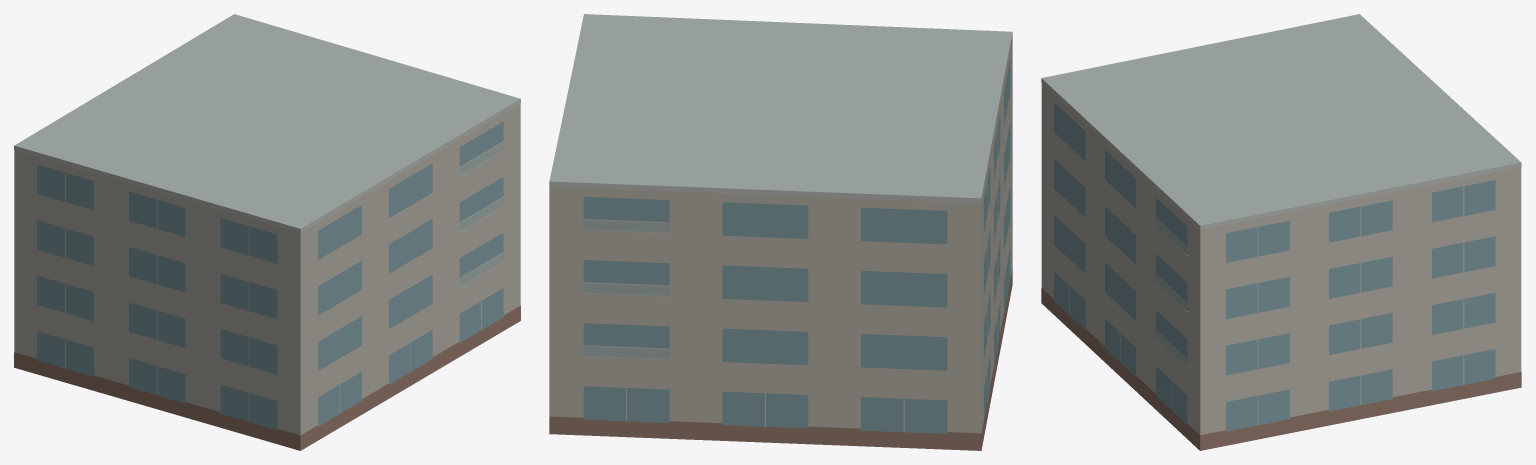
The model's file is survey-upis-32826151.glb.
The picture shows the model from 3 angles, left to right: view 1: azimuth 30°, elevation 25°; view 2: azimuth 150°, elevation 25°; view 3: azimuth 270°, elevation 25°; orthographic projection. The views are drawn at different scales.
Visible parts, largest first — view 1: survey-upis-32826151.tmp; view 2: survey-upis-32826151.tmp; view 3: survey-upis-32826151.tmp.
Part boxes in pixels (box(x1,y1,x2,y2)): survey-upis-32826151.tmp: box(14, 14, 520, 450); survey-upis-32826151.tmp: box(549, 14, 1012, 450); survey-upis-32826151.tmp: box(1041, 14, 1521, 450).
Bounding box in the file's own units: 25.22 × 12.5 × 24.16.
